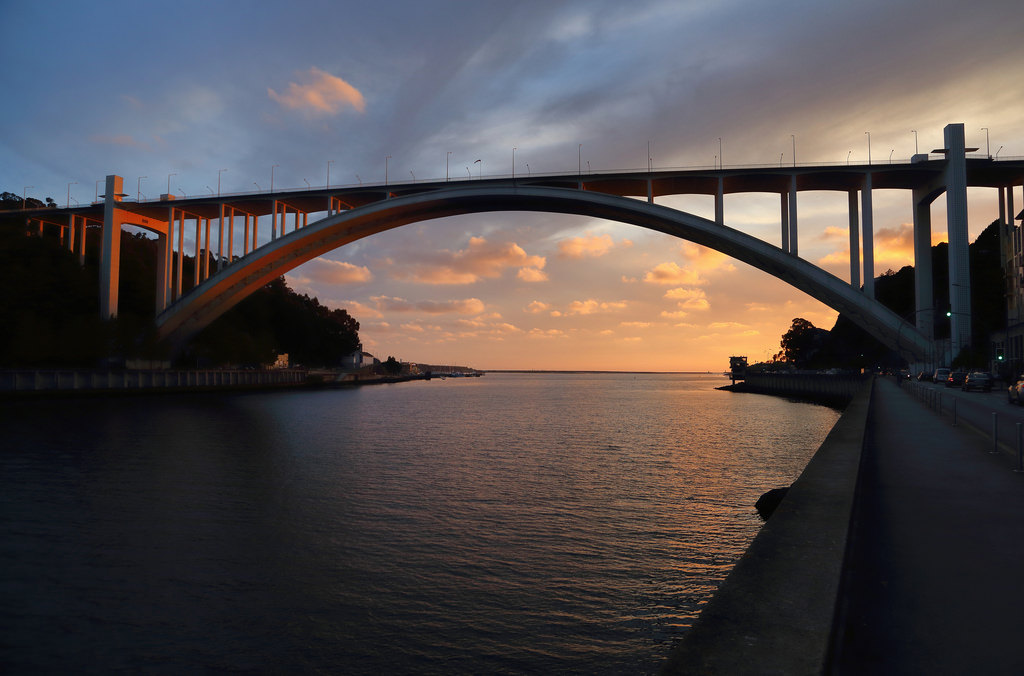arrabida: (0, 120, 1023, 370)
